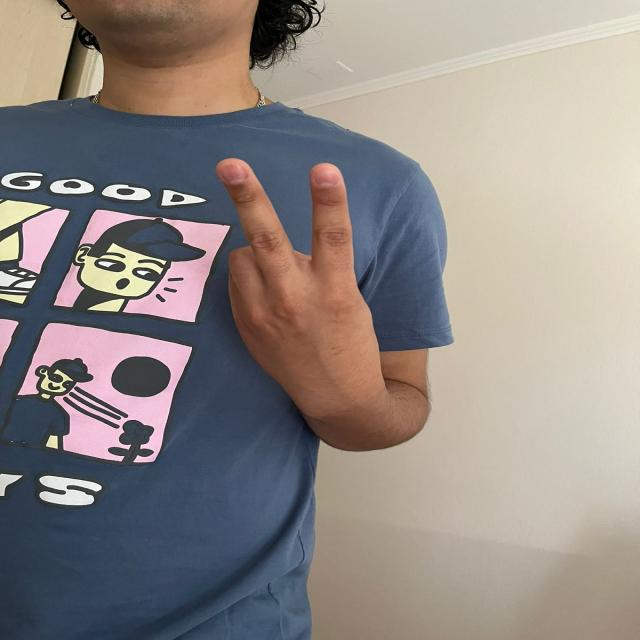V: (209, 146, 388, 415)
